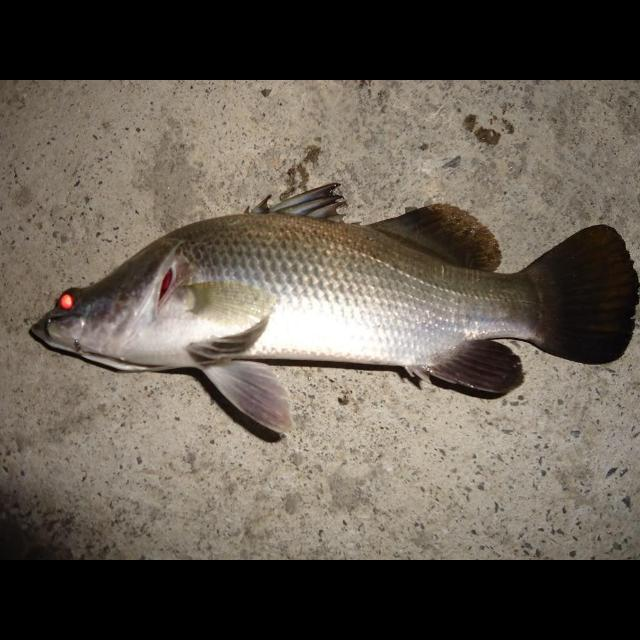Seabass: (26, 183, 640, 433)
